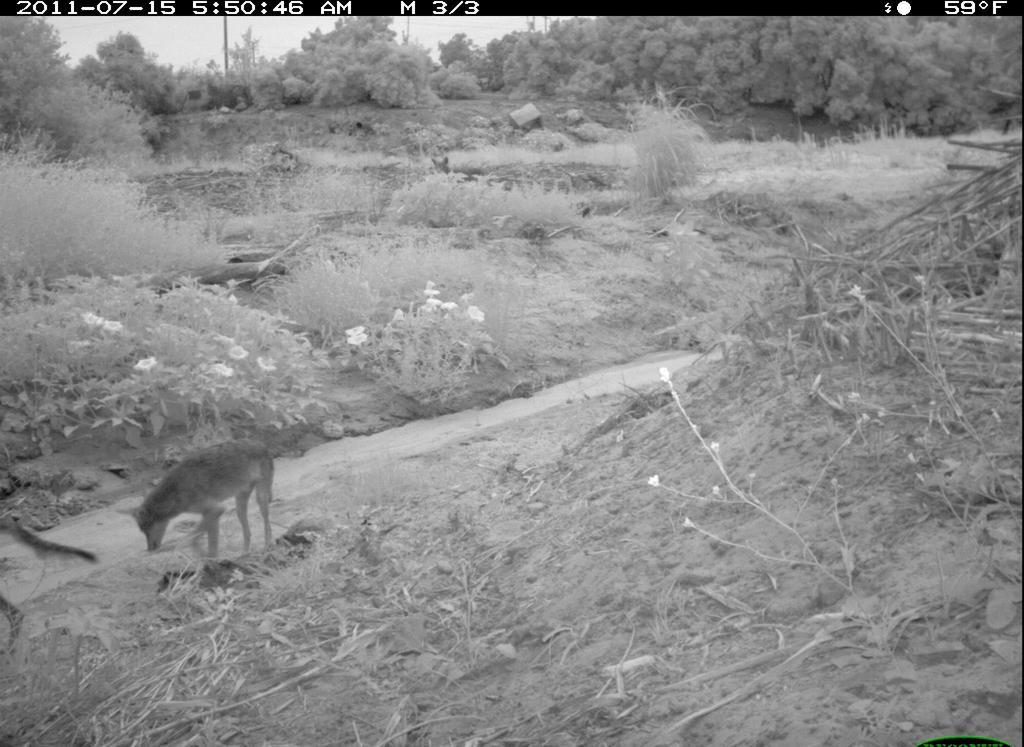coyote: (116, 417, 298, 565)
